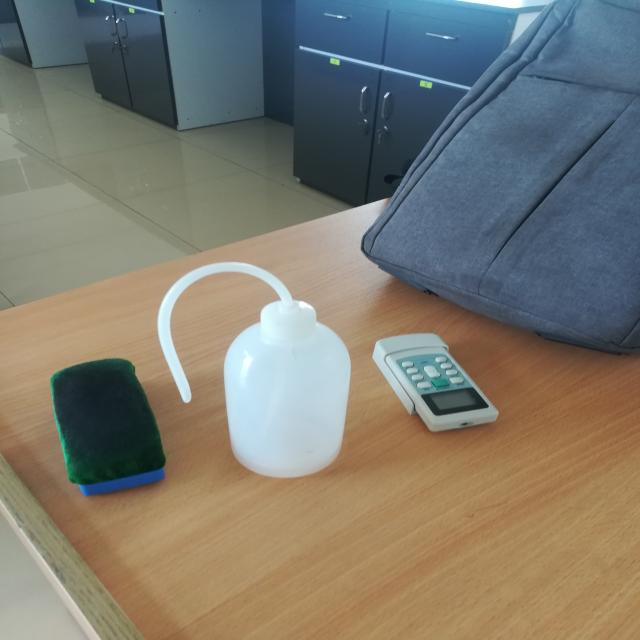Wash_Bottle: (119, 231, 383, 489)
